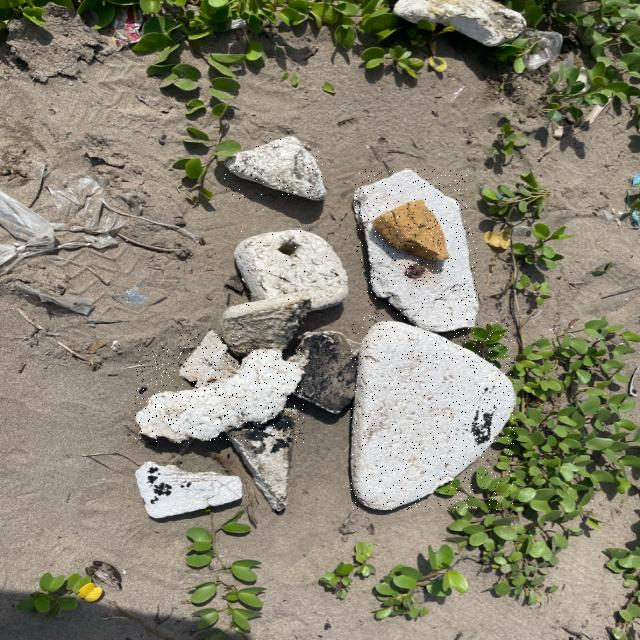styrofoam: (352, 321, 515, 510), (136, 349, 307, 443), (364, 222, 477, 332), (355, 169, 469, 271), (234, 229, 348, 310), (225, 136, 326, 199), (134, 463, 242, 518), (180, 332, 240, 386)
